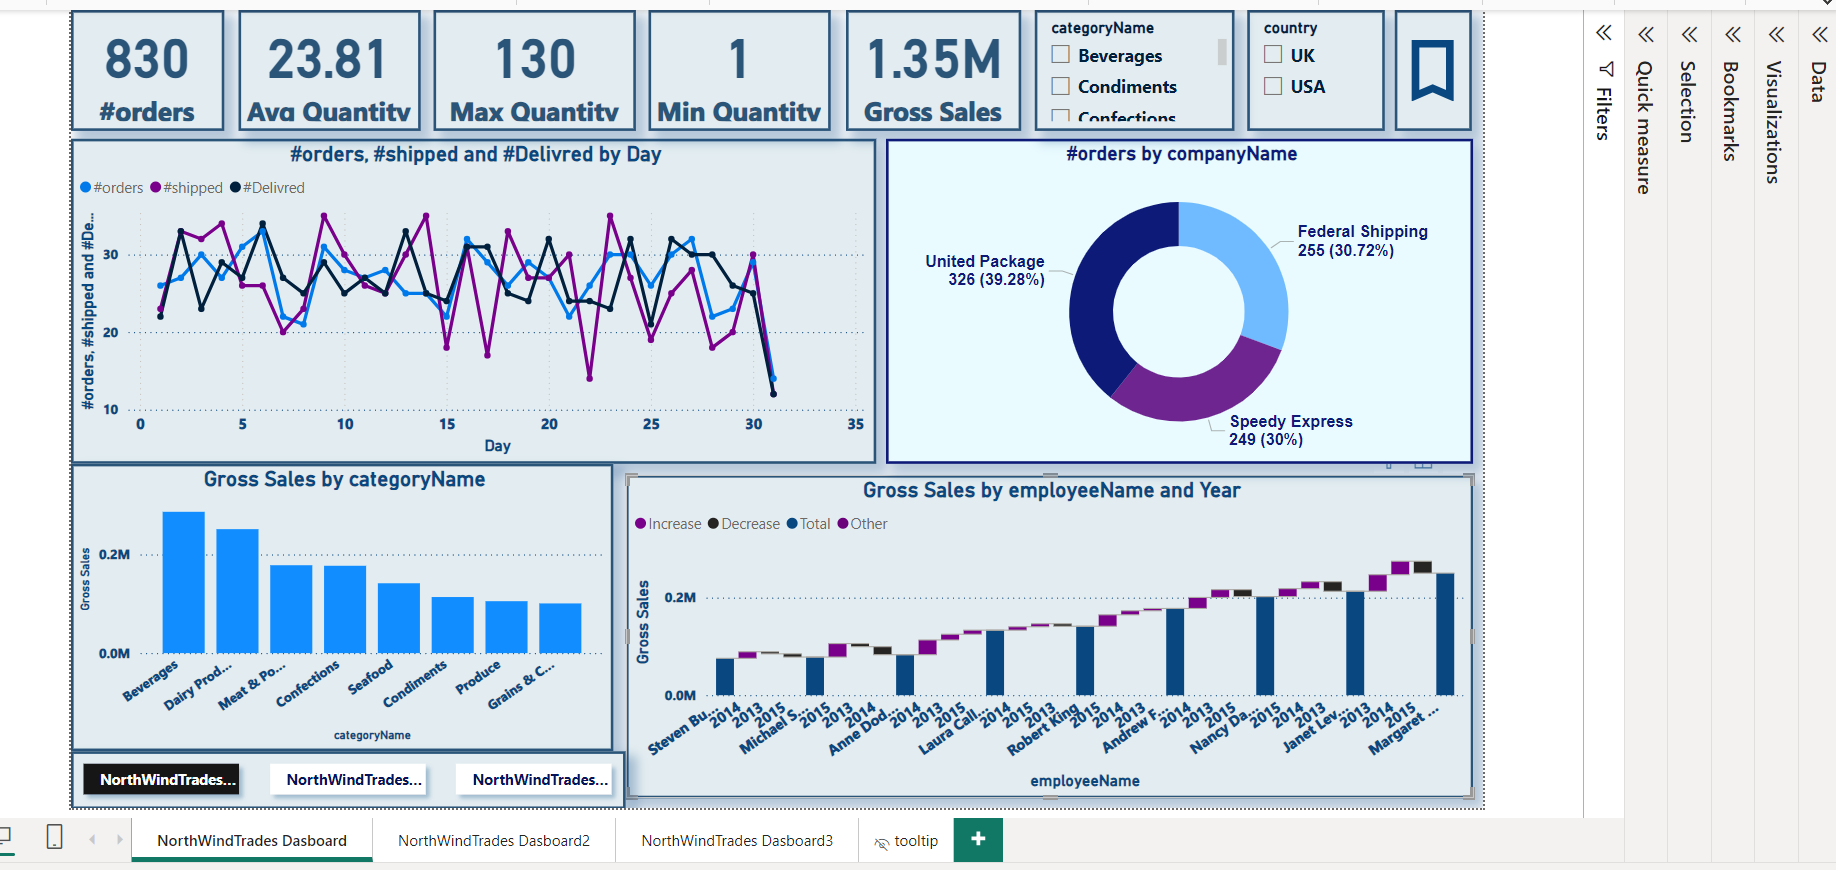

What the dashboard file says about the page in this screenshot:
{"tool":"powerbi","page":{"name":"NorthWindTrades Dasboard","canvas":[1289,729],"ordinal":0},"visuals":[{"type":"card","fields":{"Values":["Dax Mesures.#orders"]},"box":[0,0,140.3,110.5],"z":0},{"type":"lineChart","fields":{"Y":["Dax Mesures.#orders","Dax Mesures.#shipped","Dax Mesures.#Delivred"],"Category":["Date Dim.Year Hierarchy.Year","Date Dim.Year Hierarchy.Quarter","Date Dim.Year Hierarchy.Month","Date Dim.Year Hierarchy.Day"]},"box":[0,117.9,734.8,296.7],"z":1000},{"type":"card","fields":{"Values":["Dax Mesures.Average Quantity"]},"box":[152.7,0,166.3,110.5],"z":2000},{"type":"card","fields":{"Values":["Dax Mesures.Max Quantity"]},"box":[331.4,0,185,110.5],"z":3000},{"type":"card","fields":{"Values":["Dax Mesures.Min Quantity"]},"box":[527.5,0,166.3,110.5],"z":4000},{"type":"clusteredColumnChart","fields":{"Y":["Dax Mesures.Gross Sales"],"Category":["products Dim.categoryName","products Dim.productName"]},"box":[0,414.3,495.3,262.5],"z":5000},{"type":"card","fields":{"Values":["Dax Mesures.Gross Sales"]},"box":[707.5,0,160.1,110.5],"z":6000},{"type":"waterfallChart","fields":{"Category":["employees Dim.employeeName"],"Y":["Dax Mesures.Gross Sales"],"Breakdown":["Date Dim.Year"]},"box":[507,424.4,773.3,295.3],"z":7000},{"type":"slicer","fields":{"Values":["employees Dim.country"]},"box":[1073.7,0,125.4,110.5],"z":8000},{"type":"actionButton","title":"ChartButton","box":[1209,0,70.8,110.5],"z":12000},{"type":"donutChart","fields":{"Category":["shippers Dim.companyName"],"Y":["Dax Mesures.#orders"]},"box":[743.5,117.9,536.2,296.7],"z":14000},{"type":"slicer","fields":{"Values":["products Dim.categoryName"]},"box":[880.1,0,182.5,110.5],"z":15000},{"type":"pageNavigator","box":[0,676.7,506.7,52.5],"z":17000}]}

Visuals, with their boxes on the page's 1289x729 design canvas (x1, y1, x2, y2). These are canvas units, not pixel positions in the 1836x870 screenshot, which may show the page scaled, cropped or inside an application window:
card - Dax Mesures.#orders: left=0, top=0, right=140, bottom=110
lineChart - Dax Mesures.#orders x Dax Mesures.#shipped: left=0, top=118, right=735, bottom=415
card - Dax Mesures.Average Quantity: left=153, top=0, right=319, bottom=110
card - Dax Mesures.Max Quantity: left=331, top=0, right=516, bottom=110
card - Dax Mesures.Min Quantity: left=528, top=0, right=694, bottom=110
clusteredColumnChart - Dax Mesures.Gross Sales x products Dim.categoryName: left=0, top=414, right=495, bottom=677
card - Dax Mesures.Gross Sales: left=708, top=0, right=868, bottom=110
waterfallChart - employees Dim.employeeName x Dax Mesures.Gross Sales: left=507, top=424, right=1280, bottom=720
slicer - employees Dim.country: left=1074, top=0, right=1199, bottom=110
"ChartButton" actionButton: left=1209, top=0, right=1280, bottom=110
donutChart - shippers Dim.companyName x Dax Mesures.#orders: left=744, top=118, right=1280, bottom=415
slicer - products Dim.categoryName: left=880, top=0, right=1063, bottom=110
pageNavigator: left=0, top=677, right=507, bottom=729
